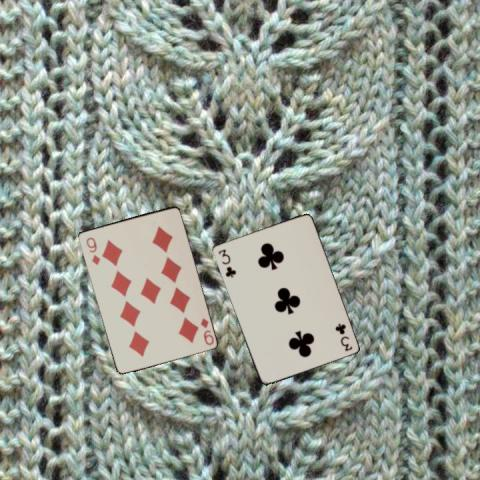3c: (215, 246, 237, 279), (333, 320, 353, 353)
9d: (83, 234, 101, 267), (197, 314, 215, 346)
